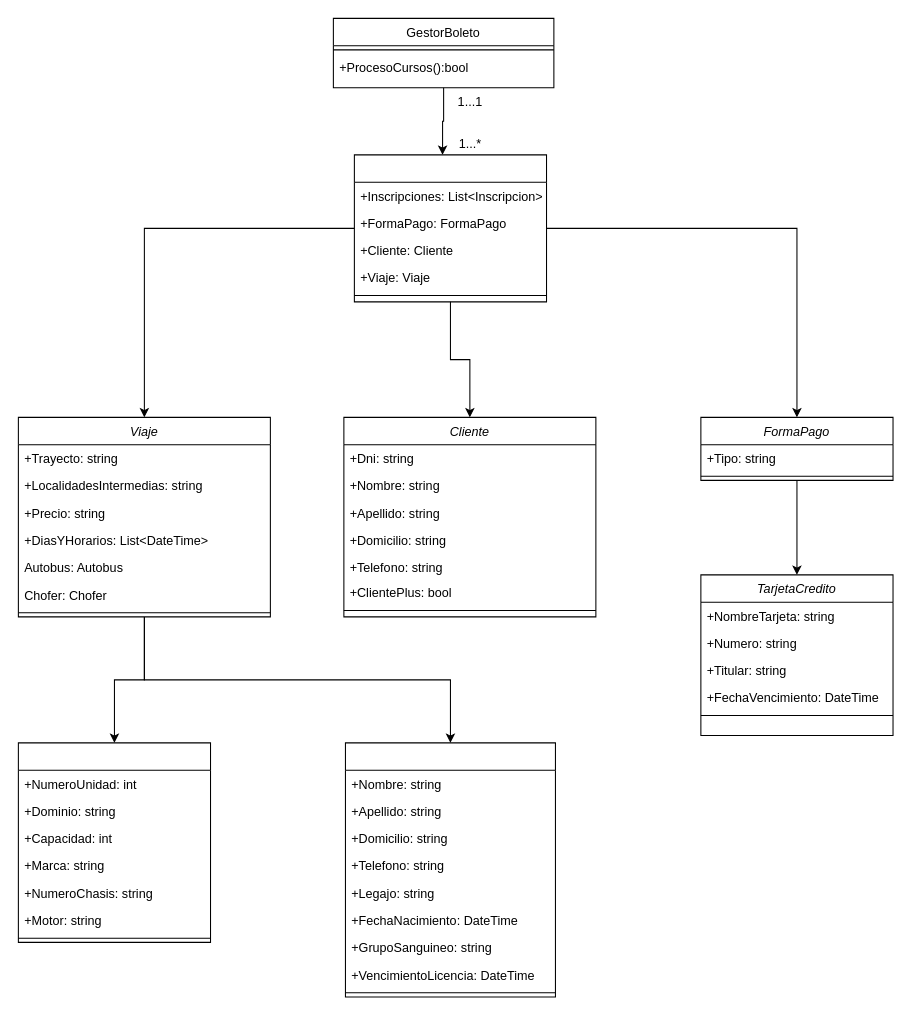
This 911x1015 diagram has some shape labels left out. The shapes that lost their labels are listed below. From the top down, each one's box as (x1, y1, x2, y2) in pixels, then its label:
(353, 154, 547, 302): Boleto
(17, 742, 211, 942): Autobus
(344, 742, 555, 997): Chofer
